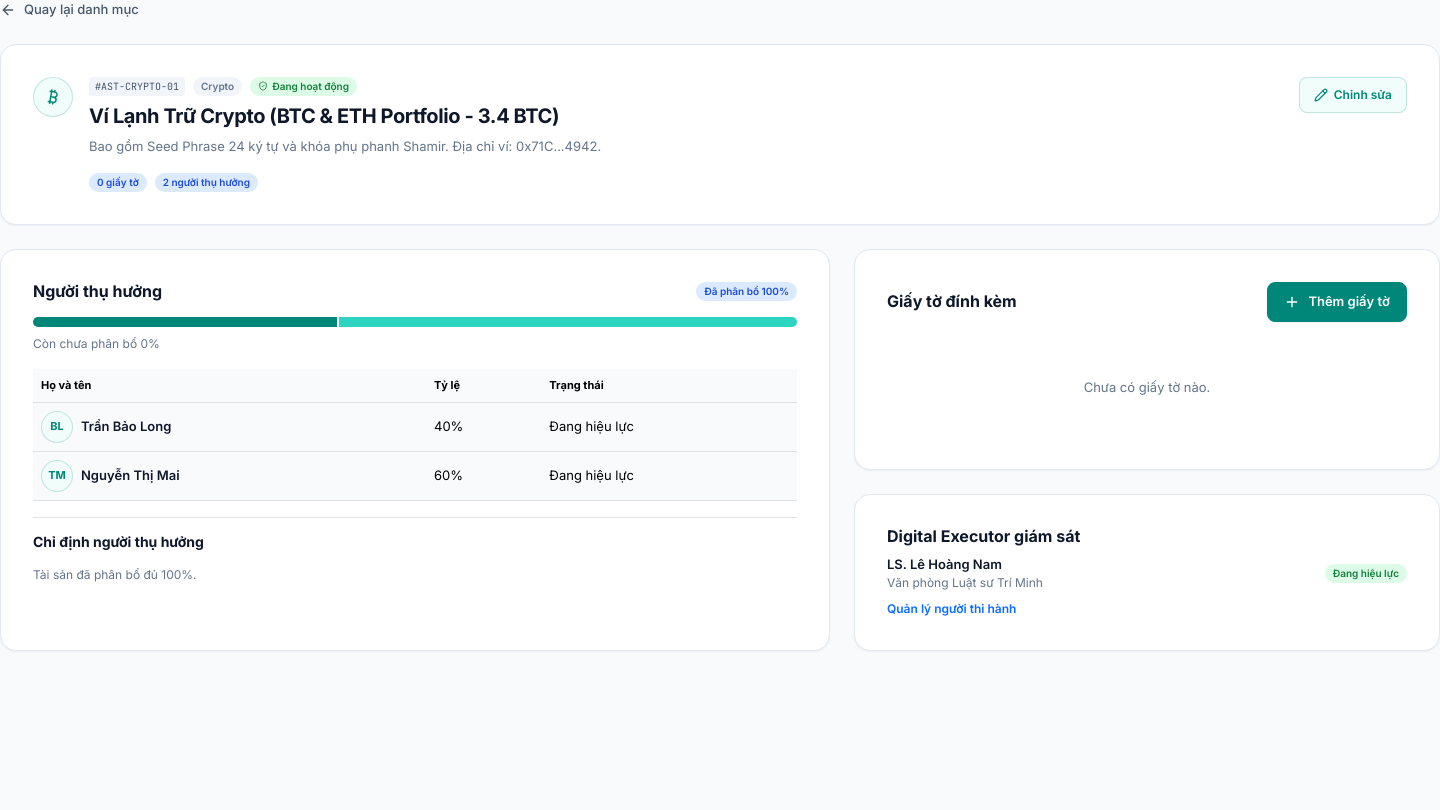
AssetDetailPage group A details › edit_ChangeName_UpdatesHeadingAndShowsToast
Click the button "Chỉnh sửa" at (1353, 94), box [1299,76,1407,112]
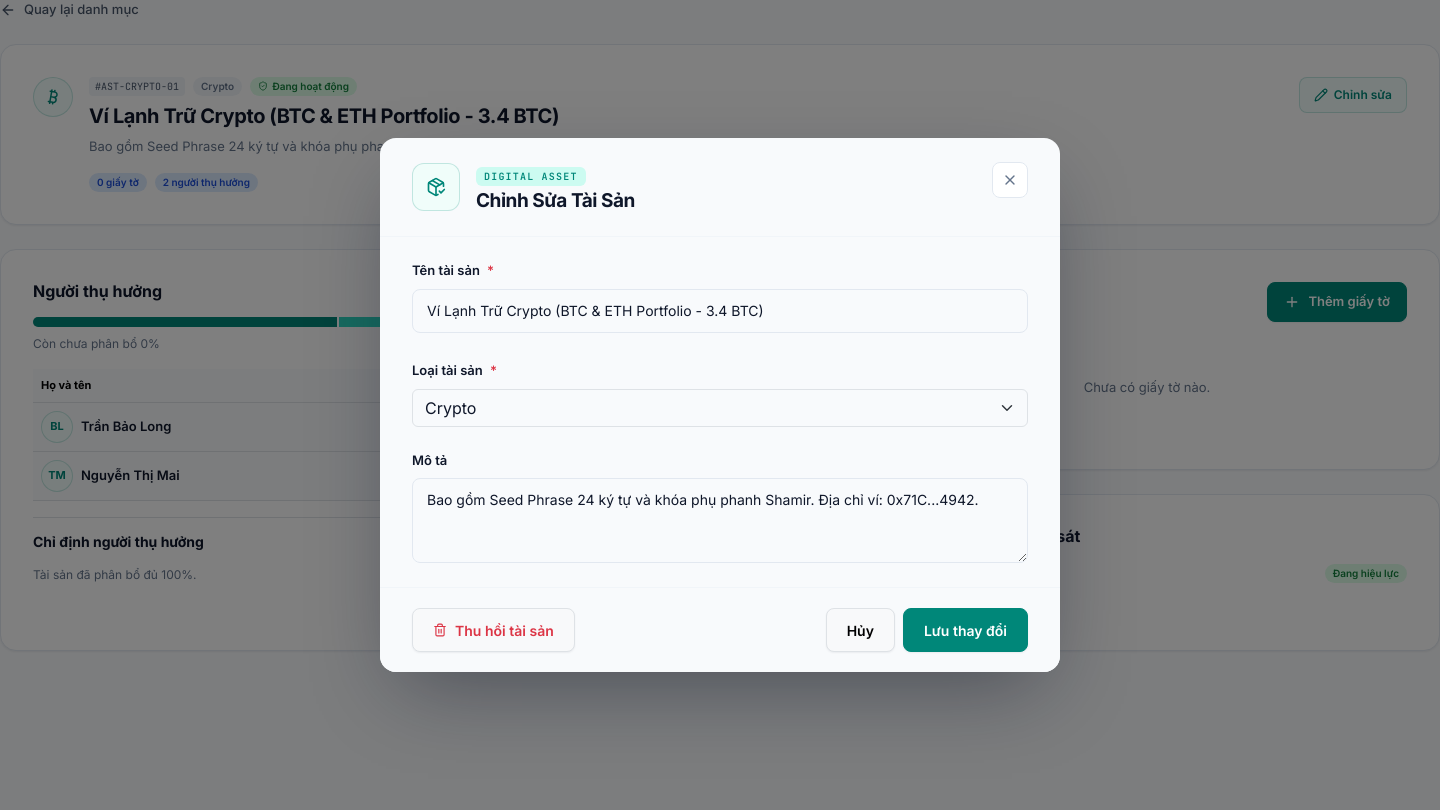
Replace the text in the field labelled "Tên tài sản *" with "Ví Lạnh Mới" at (720, 311), box [412,289,1028,333]
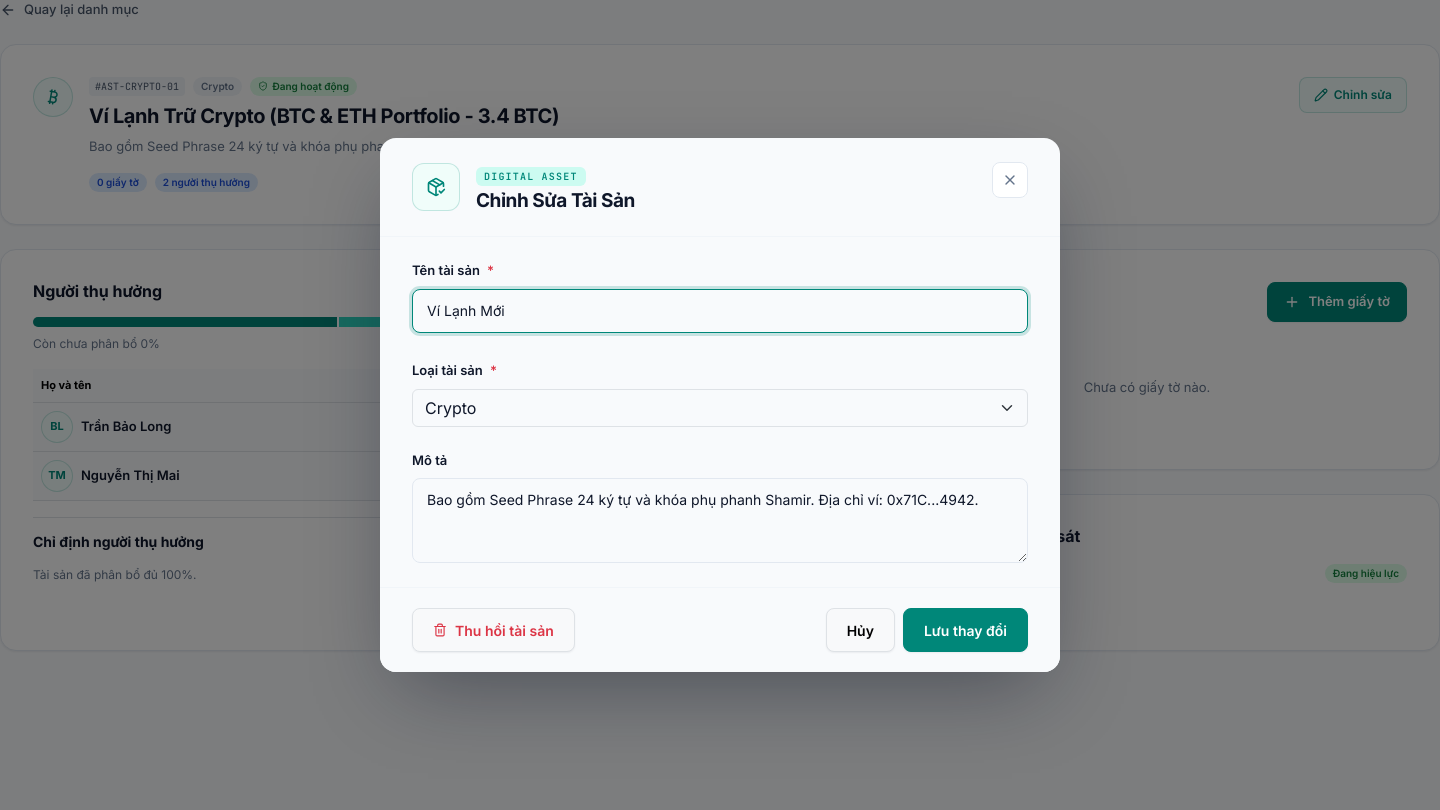
Click the button "Lưu thay đổi" at (965, 630), box [903,608,1028,652]
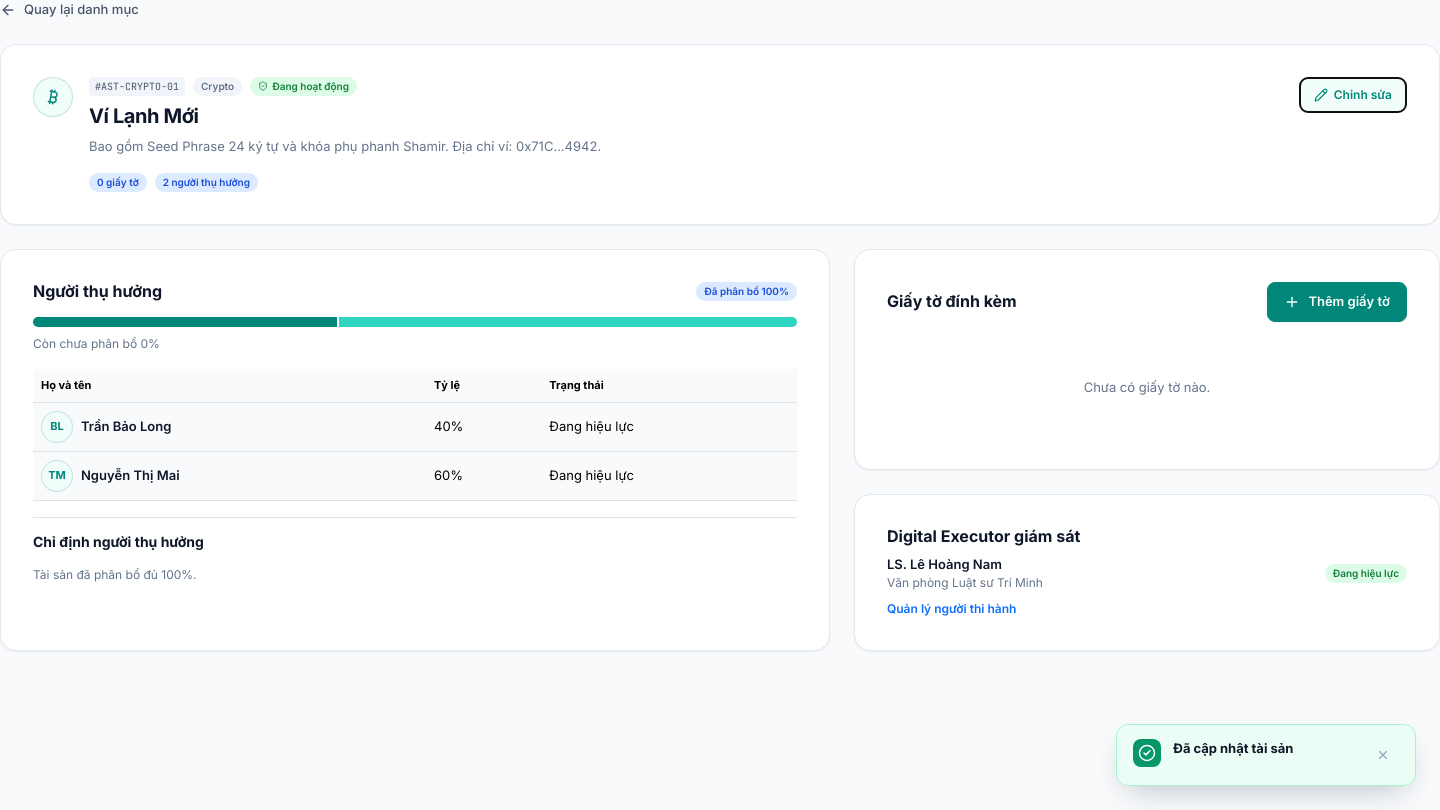
Now the heading "Ví Lạnh Mới" is shown, box [89,104,198,128]
Now the dialog is gone
Now the text "Đã cập nhật tài sản" is shown, box [1173,740,1294,756]
